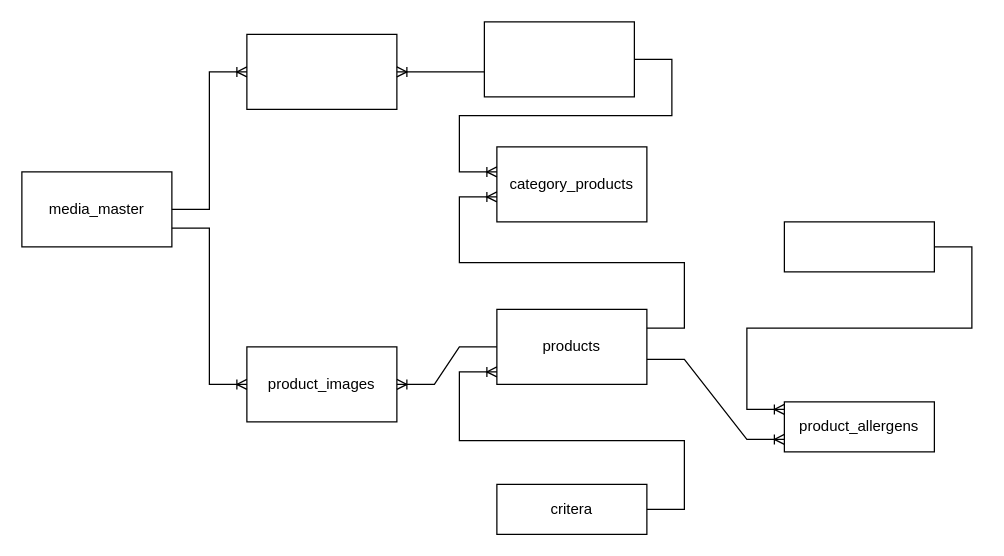
Image size: 1004x556. Some labels were removed from this diagram. Here are the shapes that lost their labels. From the top down, the centre of each, then its label:
At pixel 321 71: "category_images".
At pixel 558 59: "Categories".
At pixel 858 246: "alergens".
